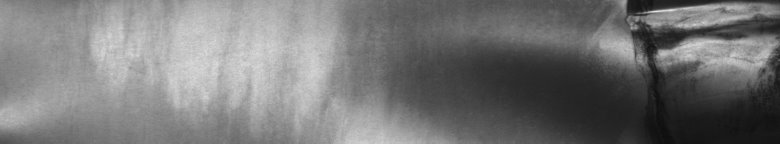ke: (595, 4, 756, 99)
